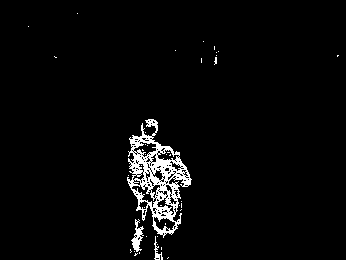person: (125, 117, 162, 260), (146, 145, 192, 260)
